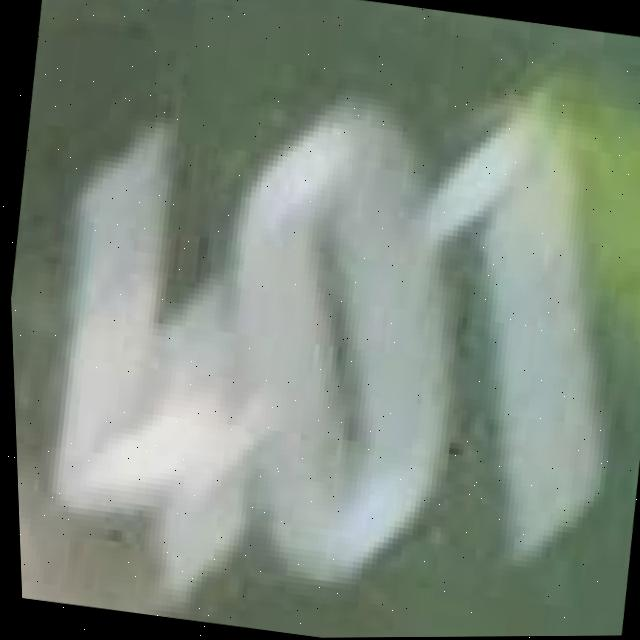character: (179, 83, 506, 614), (13, 96, 317, 602), (382, 80, 640, 596)
